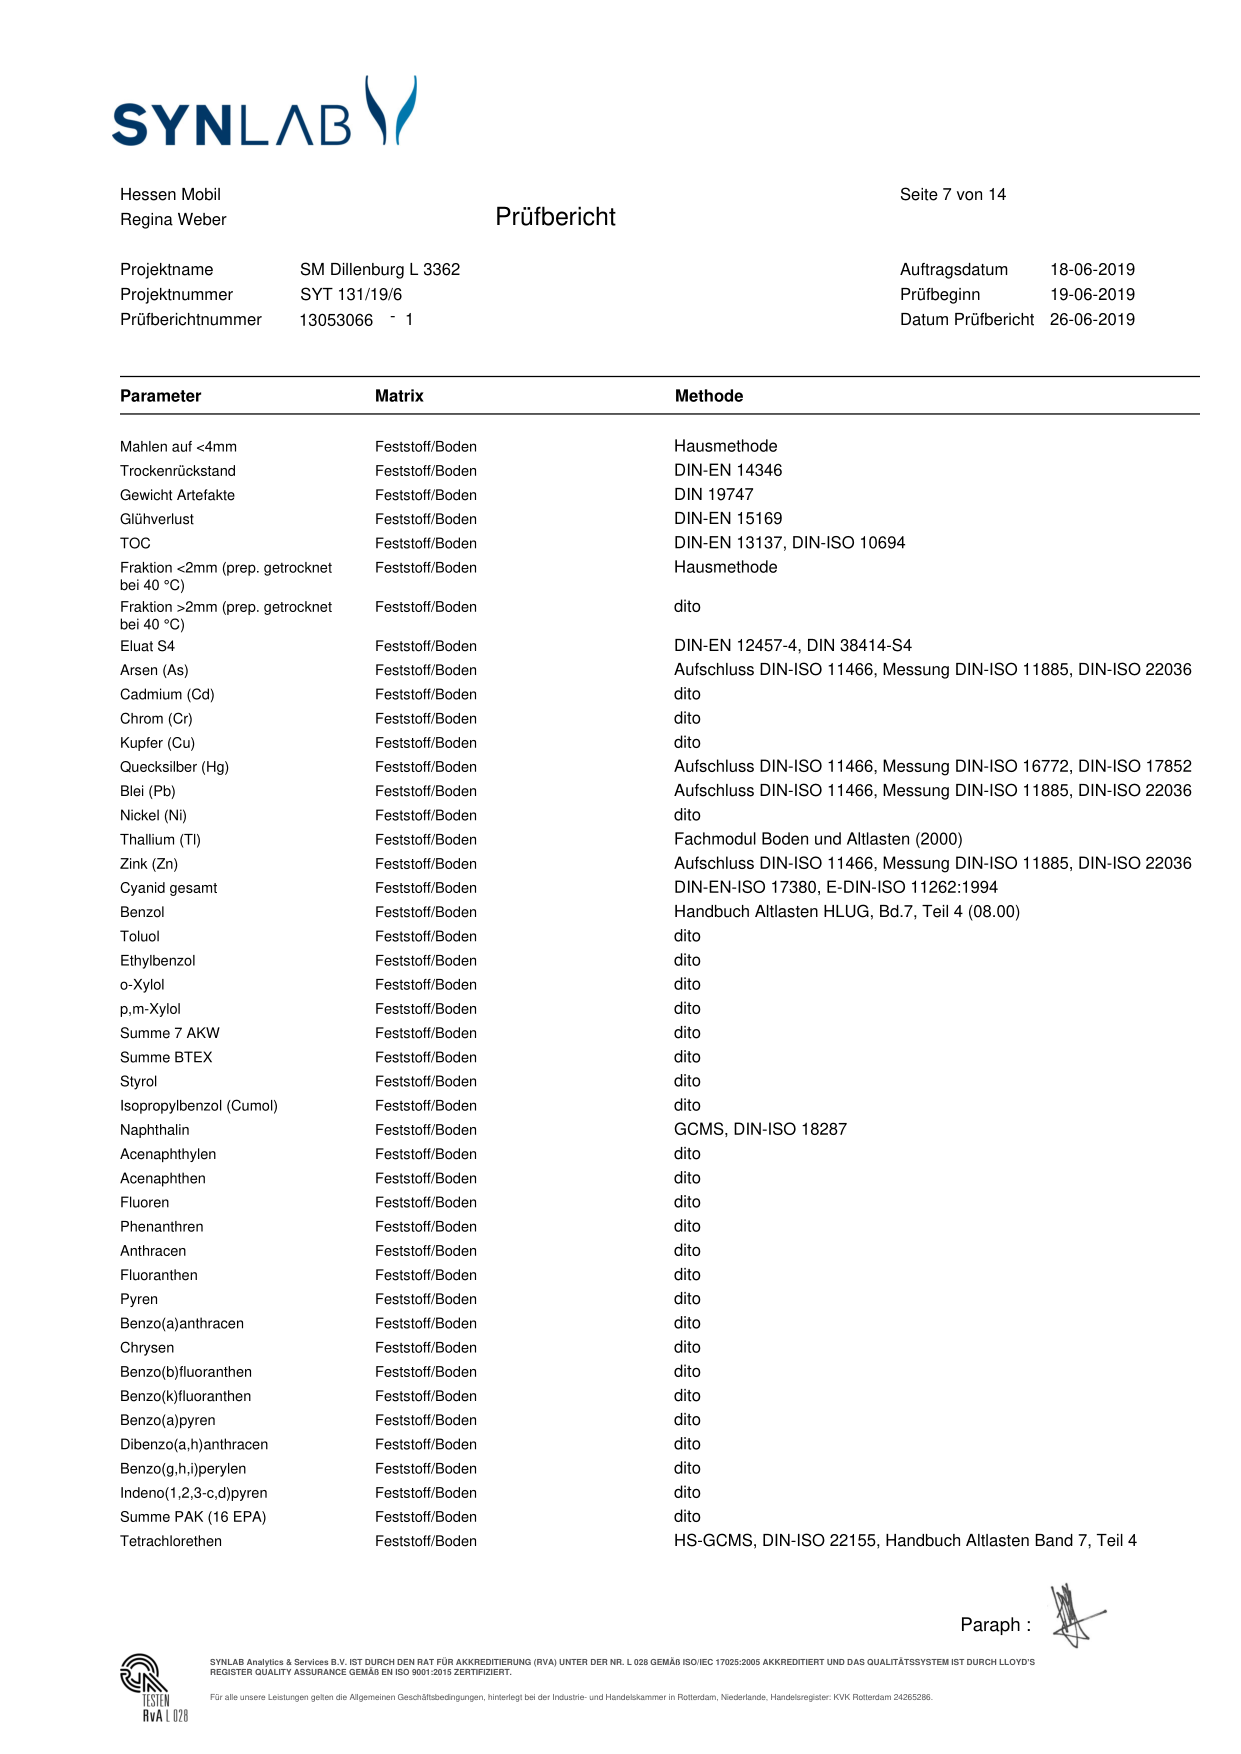table: (97, 416, 1205, 1567)
